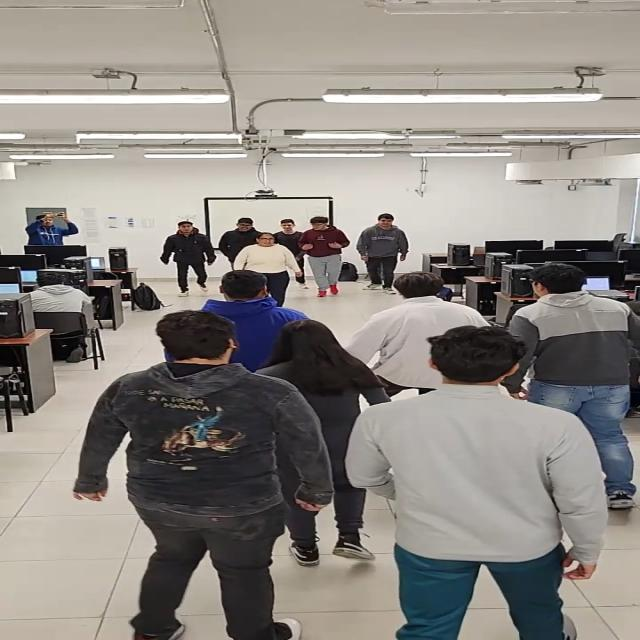Persona: (71, 310, 337, 640), (344, 324, 608, 640), (249, 314, 395, 569), (505, 264, 640, 509), (343, 269, 500, 396), (194, 268, 313, 372), (232, 232, 303, 307), (159, 220, 217, 297), (298, 216, 352, 298), (356, 213, 408, 295), (269, 218, 309, 288), (218, 217, 264, 269)
